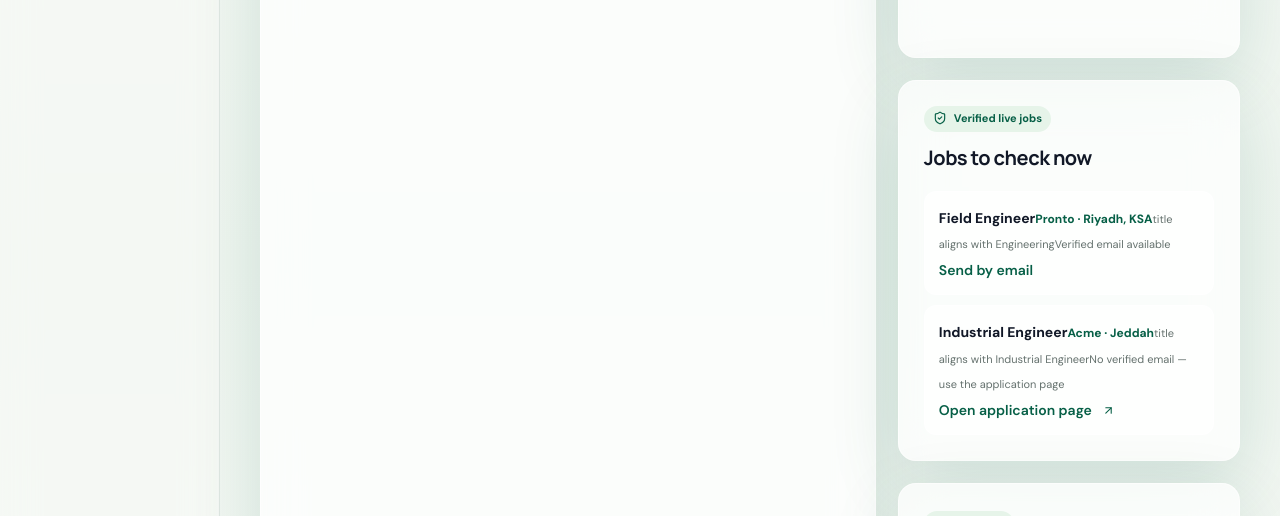
V2 workspace behavior › exposes Send by email only for a verified-recipient job and never asks for a recipient
(page scrolled)
Click the button "Send by email".
click(986, 270)  # box [939, 259, 1199, 281]
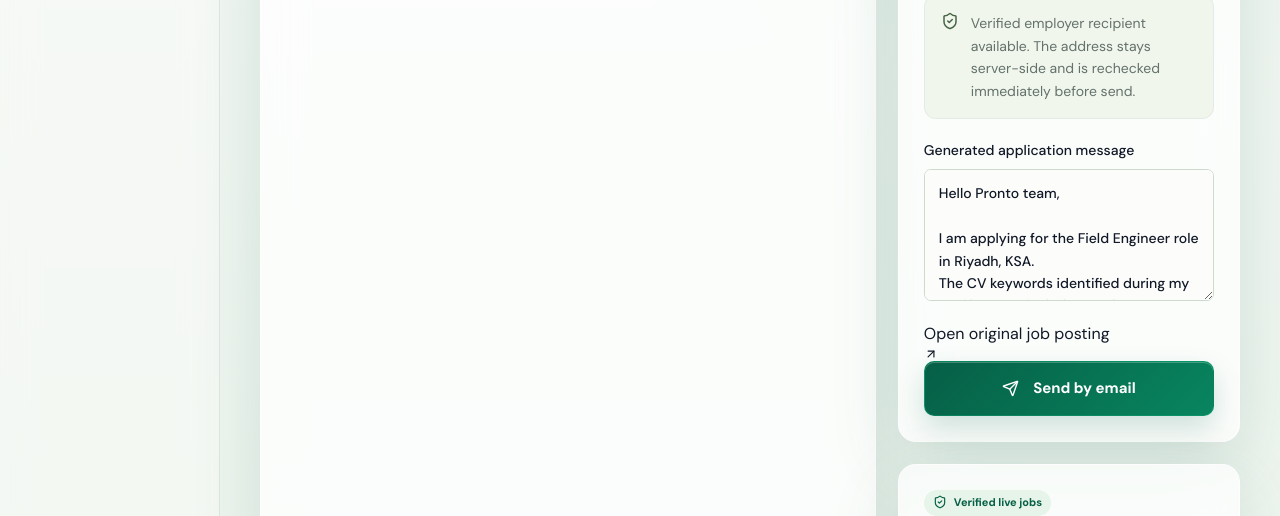
Expected: the text "Verified employer recipient available" is shown, [971, 14, 1160, 100]
Click the button "Send by email".
click(1069, 388)  # box [924, 361, 1214, 416]
(page scrolled)
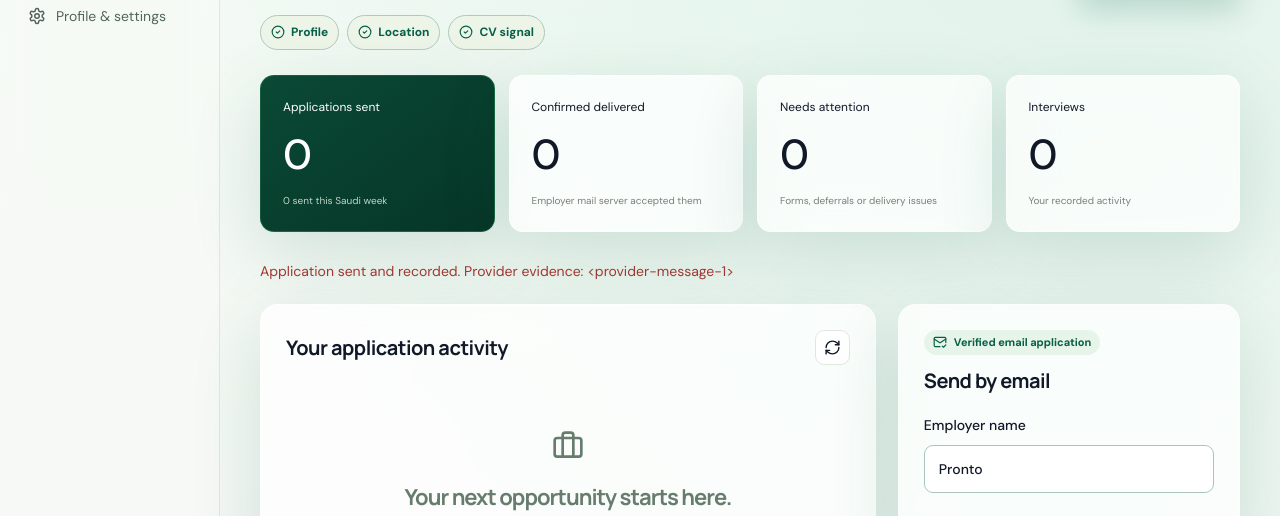
Expected: the text "Application sent and recorded. Provider evidence: <provider-message-1>" is shown, [260, 262, 734, 280]
